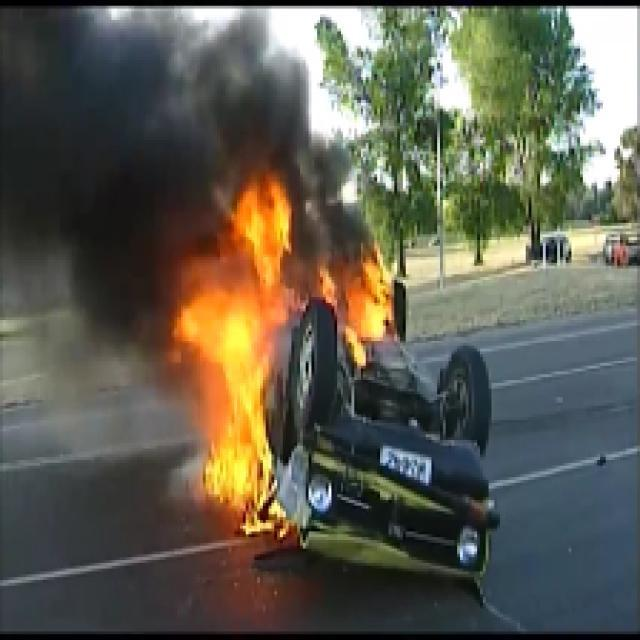Fire: (174, 174, 297, 537), (319, 257, 392, 343)
Smoke: (2, 2, 232, 268)
